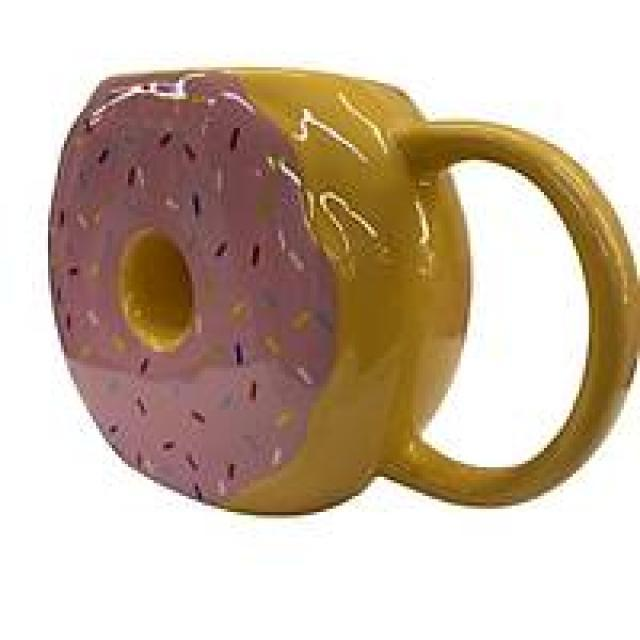Coffee Mug: (45, 64, 640, 522)
